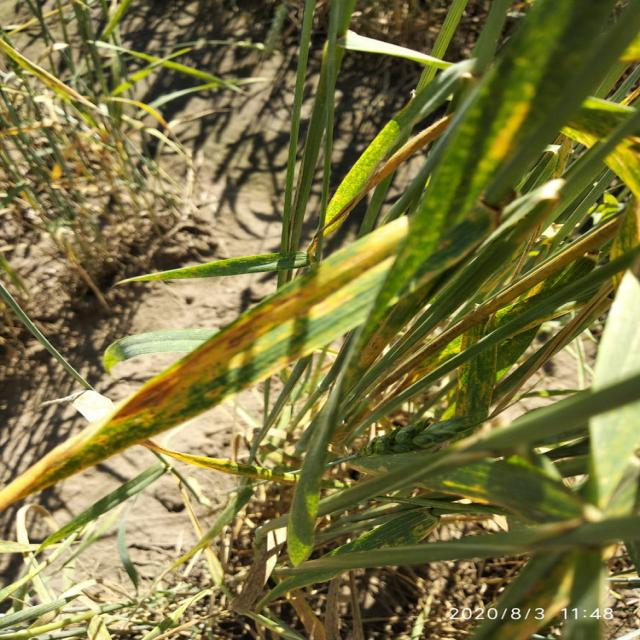wheat-yellowrust: (6, 215, 397, 509)
